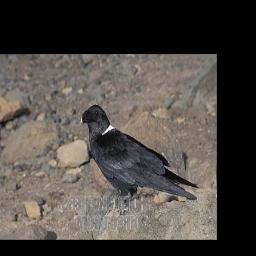Crow: (77, 104, 201, 219)
